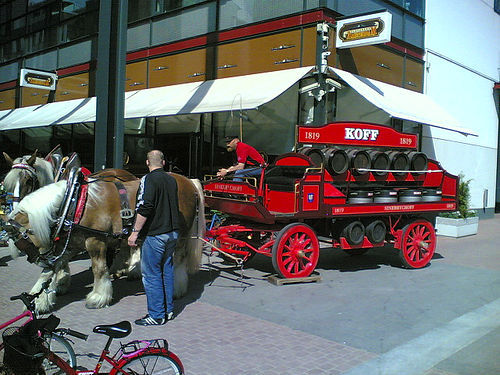horse: (5, 168, 208, 316), (2, 155, 142, 282)
